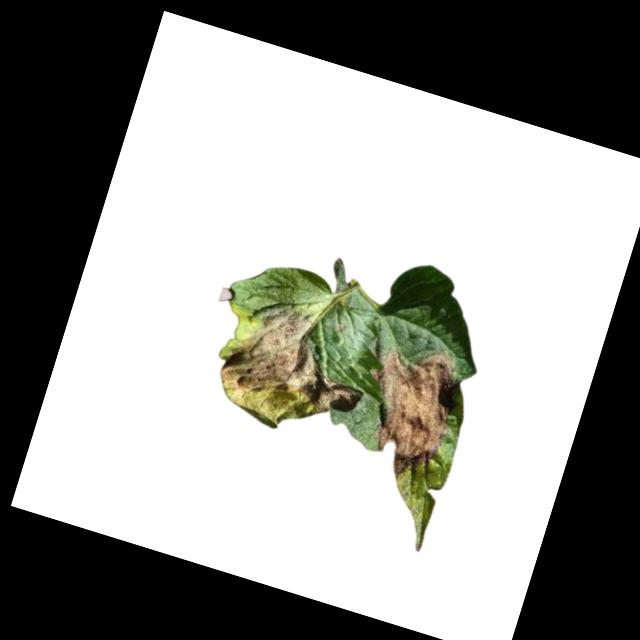Late_blight: (202, 293, 379, 452), (343, 331, 467, 485)
